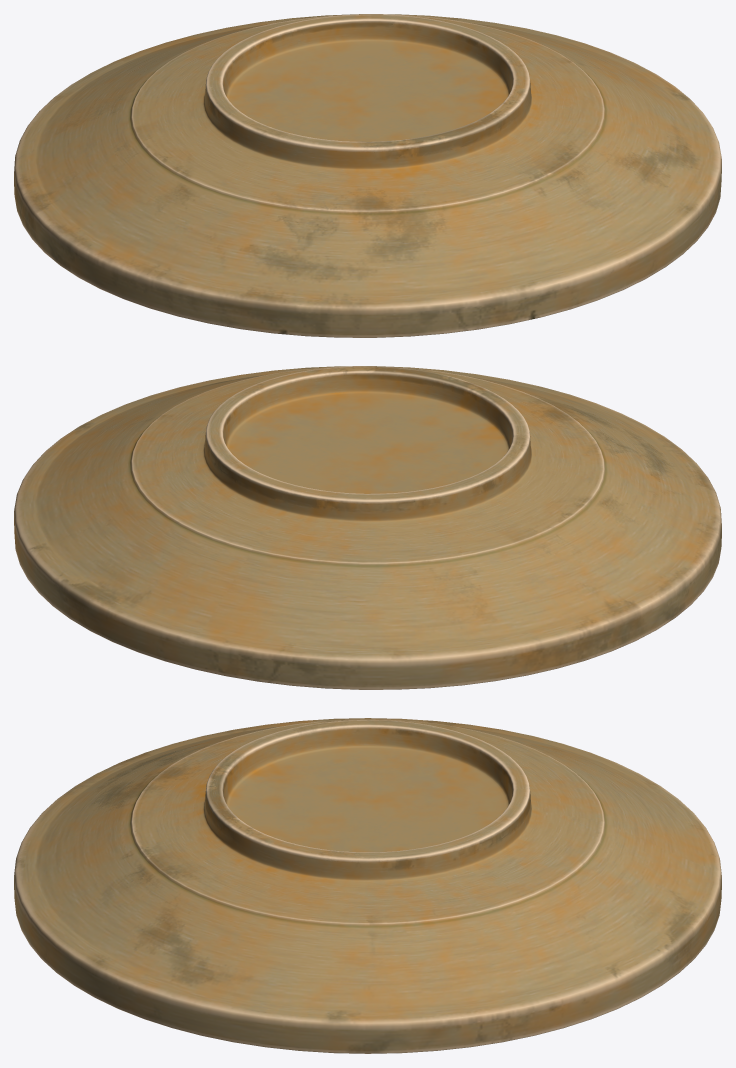
File: SM_LargeBowl150_T.fbx
The picture shows the model from 3 angles, top to bottom: view 1: azimuth 30°, elevation 25°; view 2: azimuth 150°, elevation 25°; view 3: azimuth 270°, elevation 25°; orthographic projection.
Visible parts, largest first — view 1: SM_LargeBowl150_T; view 2: SM_LargeBowl150_T; view 3: SM_LargeBowl150_T.
Part boxes in pixels (x1=…): SM_LargeBowl150_T: x1=14, y1=14, x2=721, y2=337; SM_LargeBowl150_T: x1=14, y1=366, x2=721, y2=689; SM_LargeBowl150_T: x1=14, y1=718, x2=721, y2=1053.
Bounding box in the file's own units: 30.35 × 5.18 × 29.59.
1 material, 1 textured.
